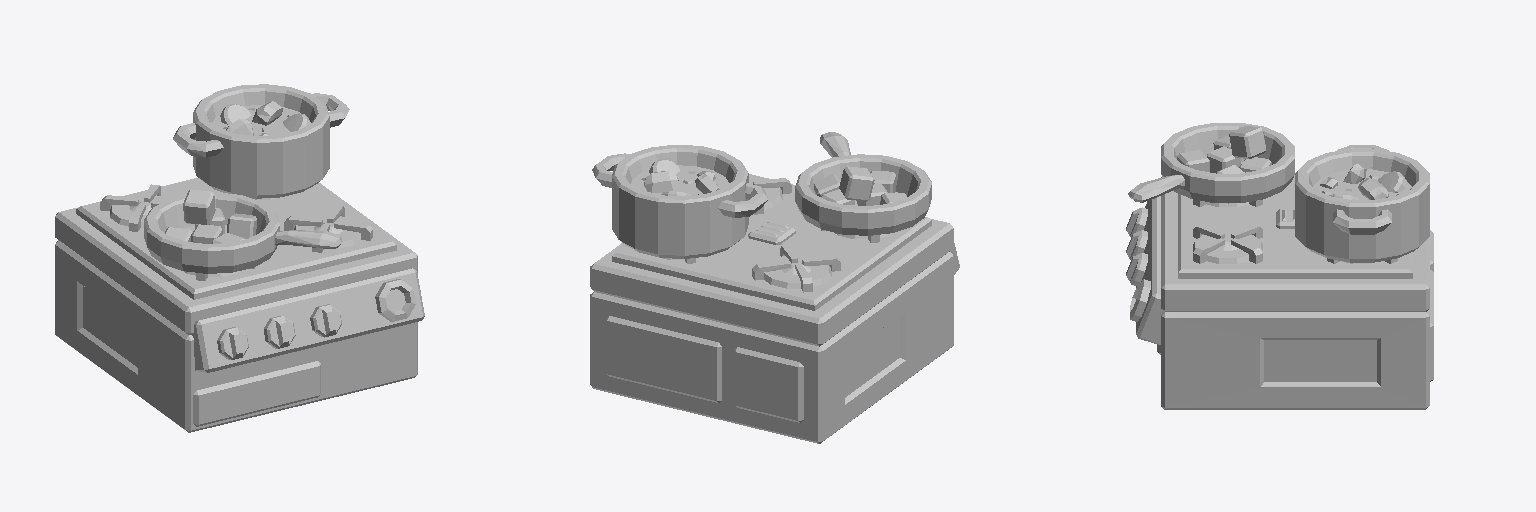
Rendered from stove_multi_decorated.obj.
3 views of the same model, side by side, from view 1: azimuth 30°, elevation 25°; view 2: azimuth 150°, elevation 25°; view 3: azimuth 270°, elevation 25° (orthographic).
Visible parts, largest first — view 1: stove_multi_decorated_Cube.003; view 2: stove_multi_decorated_Cube.003; view 3: stove_multi_decorated_Cube.003.
Boxes of the visible parts, box(x1,y1,x2,y2) form: stove_multi_decorated_Cube.003: box(55, 84, 424, 432); stove_multi_decorated_Cube.003: box(590, 132, 959, 443); stove_multi_decorated_Cube.003: box(1126, 123, 1433, 409).
Size of the model in its own units: 2.2 by 1.72 by 2.29.